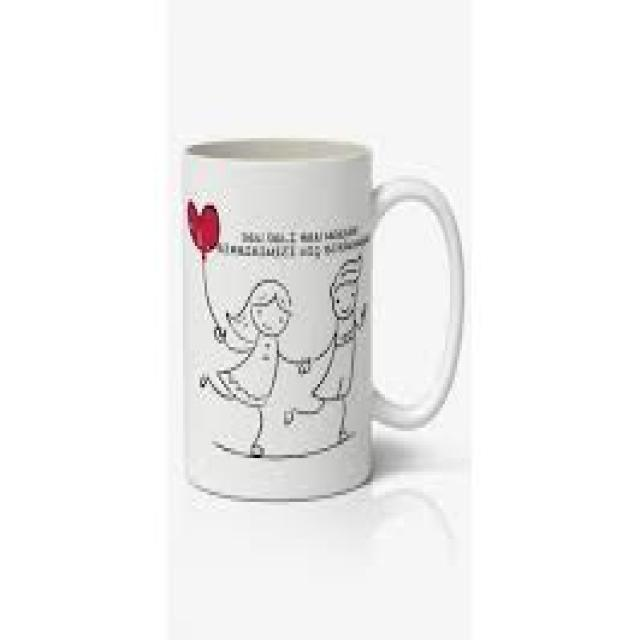taza: (180, 137, 465, 501)
